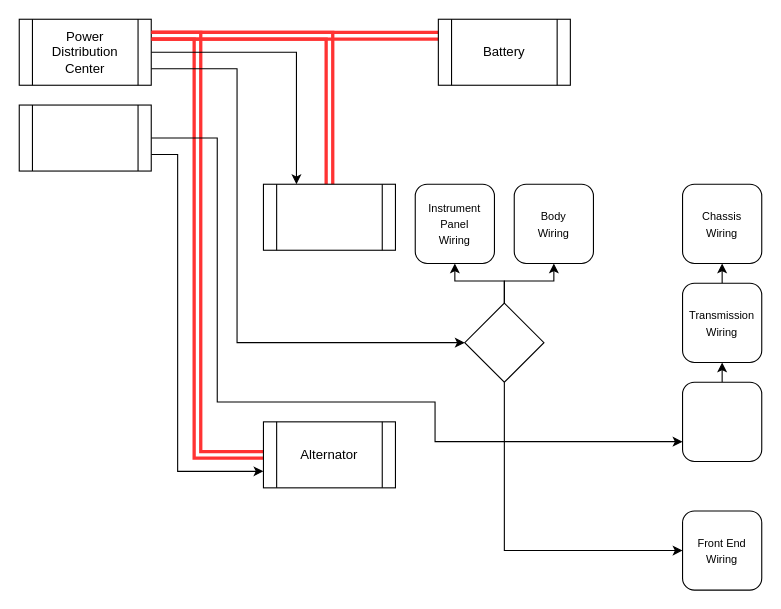
Some shapes in this 781 by 609 pixel diagram are drawn without their labels. The shapes that lost their labels are listed below. From the top down, each one's box as (x1, y1, x2, y2) in pixels, then its label:
(18, 104, 151, 171): Powertrain Control Module
(262, 183, 395, 250): Starter Motor
(464, 302, 544, 382): Bulkhead Connector
(681, 381, 762, 461): Engine Wiring
